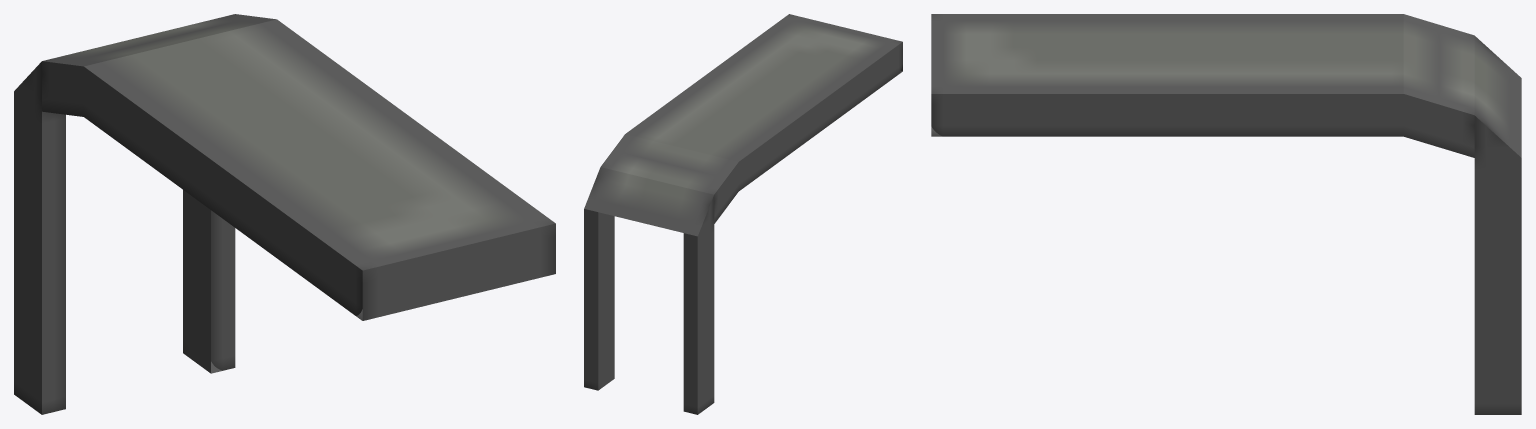
The model's file is revolver_latch_atlas.obj.
3 views of the same model, side by side, from view 1: azimuth 30°, elevation 25°; view 2: azimuth 150°, elevation 25°; view 3: azimuth 270°, elevation 25° (orthographic). The views are drawn at different scales.
Parts seen in each view (by area): view 1: Latch; view 2: Latch; view 3: Latch.
Boxes of the visible parts, box(x1,y1,x2,y2) form: Latch: box(14, 14, 555, 414); Latch: box(584, 14, 902, 414); Latch: box(931, 14, 1521, 414).
Bounding box in the file's own units: 1 × 1.88 × 3.12.
